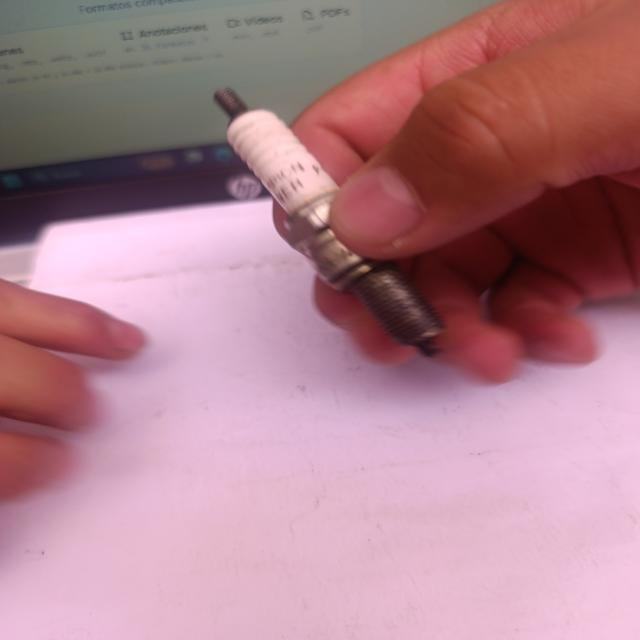bujia: (214, 88, 443, 357)
